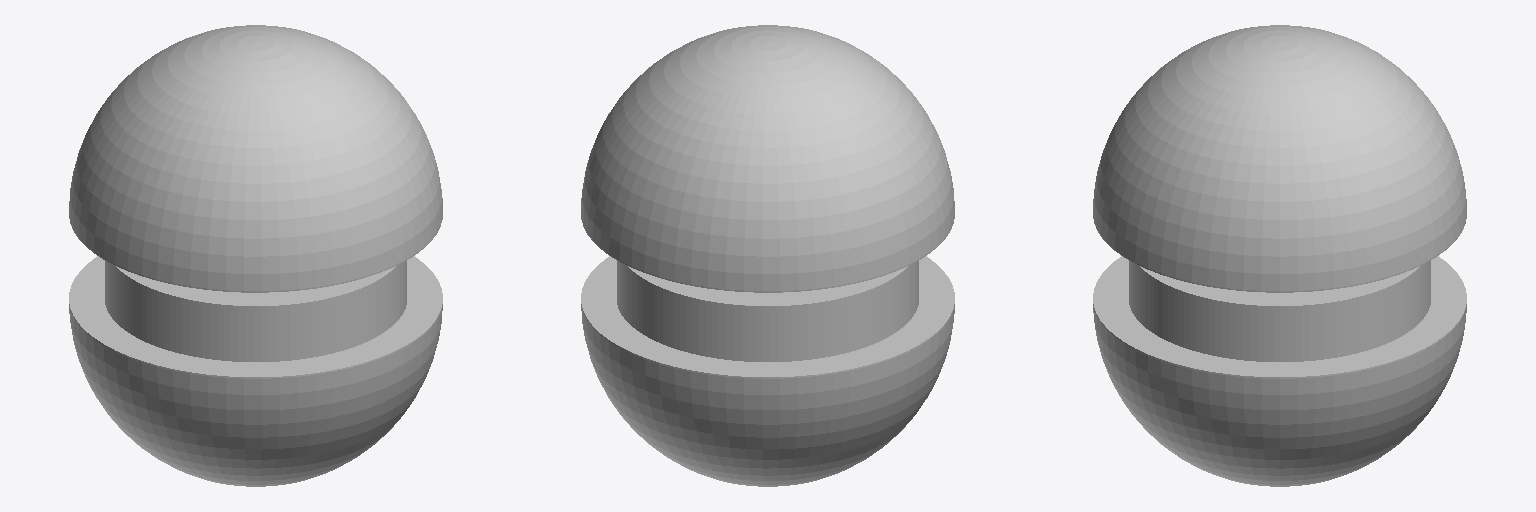
Rendered from droid_anim_000021.obj.
3 views of the same model, side by side, from view 1: azimuth 30°, elevation 25°; view 2: azimuth 150°, elevation 25°; view 3: azimuth 270°, elevation 25° (orthographic).
Visible parts, largest first — view 1: Sphere.004, Sphere.005, Cylinder.002; view 2: Sphere.004, Sphere.005, Cylinder.002; view 3: Sphere.004, Sphere.005, Cylinder.002.
Part boxes in pixels (bbox=[...]): Sphere.004: bbox=[69, 25, 442, 292]; Sphere.005: bbox=[69, 256, 442, 486]; Cylinder.002: bbox=[105, 261, 406, 361]; Sphere.004: bbox=[581, 25, 954, 292]; Sphere.005: bbox=[581, 256, 954, 486]; Cylinder.002: bbox=[617, 261, 918, 361]; Sphere.004: bbox=[1093, 25, 1466, 292]; Sphere.005: bbox=[1093, 256, 1466, 486]; Cylinder.002: bbox=[1129, 261, 1430, 361].
Size of the model in its own units: 2 by 2.52 by 2.